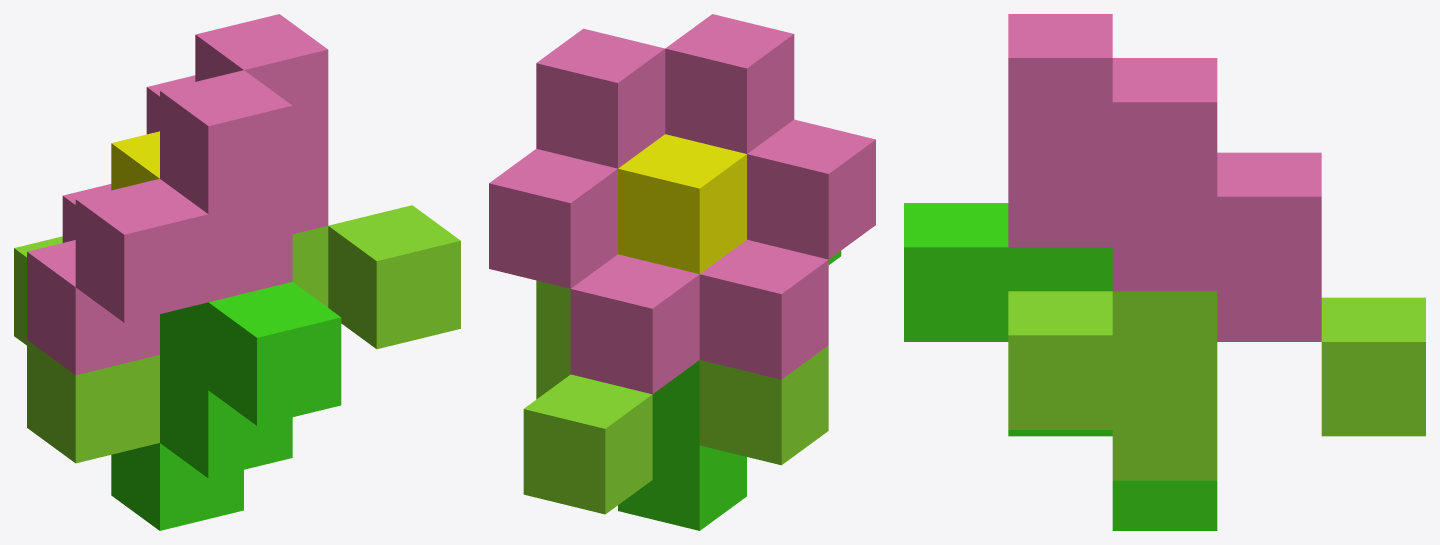
Rendered from tile-55.obj.
The picture shows the model from 3 angles, left to right: view 1: azimuth 30°, elevation 25°; view 2: azimuth 150°, elevation 25°; view 3: azimuth 270°, elevation 25°; orthographic projection. The views are drawn at different scales.
Size of the model in its own units: 0.4 by 0.5 by 0.5.
Materials: 1 (1 with a texture image).
